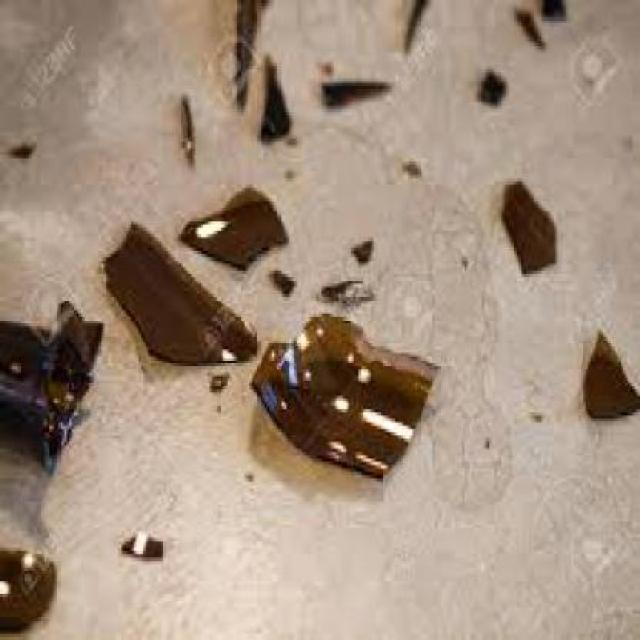kaca: (248, 306, 435, 479), (97, 218, 252, 360), (0, 290, 98, 461), (179, 185, 286, 268), (502, 175, 556, 271), (227, 0, 272, 112), (582, 326, 638, 412), (0, 544, 52, 626), (254, 53, 289, 138), (314, 72, 388, 103), (511, 0, 542, 54), (400, 0, 428, 54), (314, 271, 371, 294), (474, 69, 504, 106), (174, 92, 191, 156), (122, 528, 160, 554), (268, 263, 292, 294), (351, 233, 374, 264), (5, 136, 37, 158), (538, 0, 570, 20), (311, 49, 334, 72), (211, 366, 231, 386), (402, 152, 418, 165), (281, 132, 294, 142)
